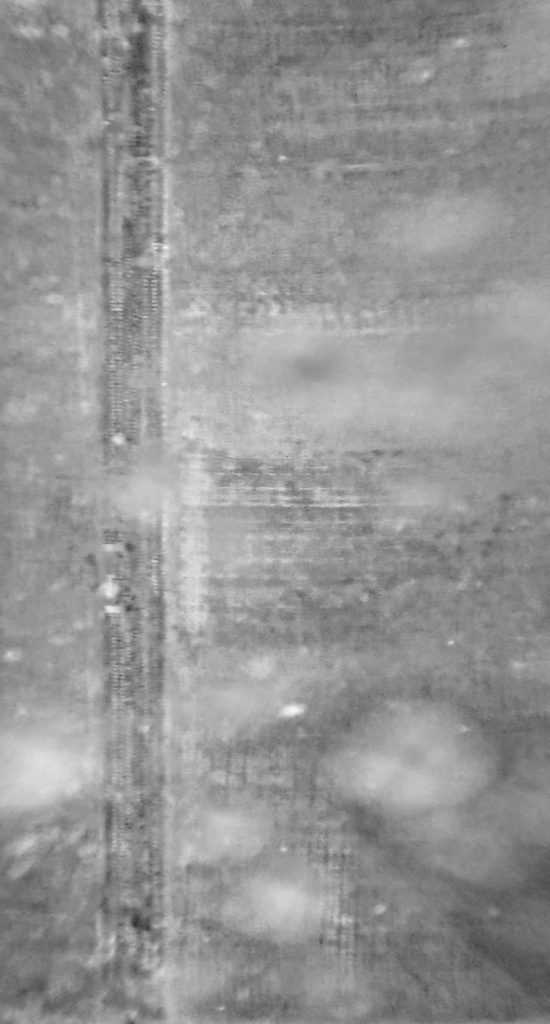splice: (85, 1, 182, 1021)
